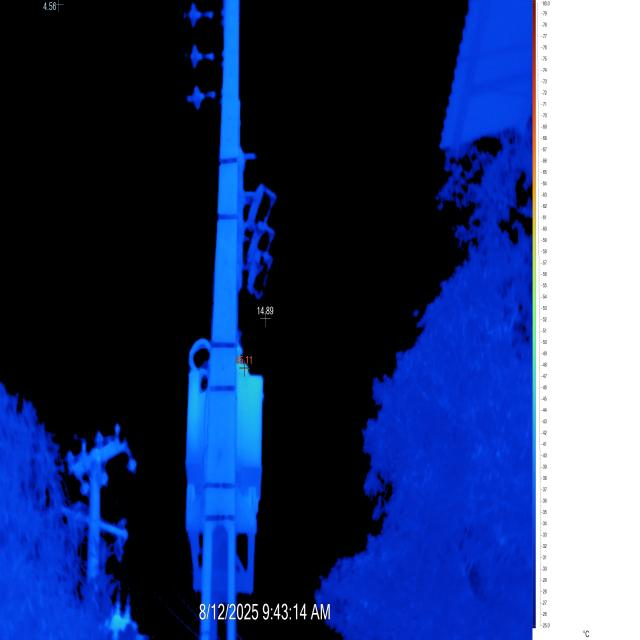Transformer: (175, 0, 284, 636)
